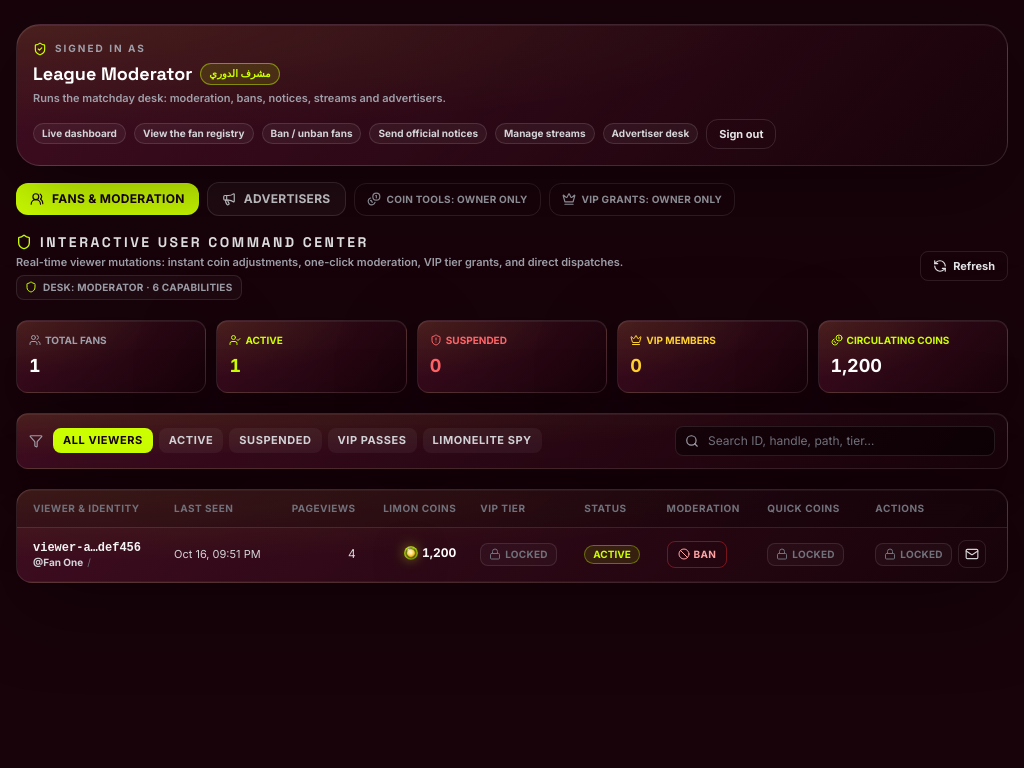
Test: signed in as a league moderator › renders the desk, its capabilities and only the tools it owns
expect the heading "League Moderator مشرف الدوري" is shown: met, box x1=33 y1=62 x2=280 y2=85
expect the text "Ban / unban fans" is shown: met, box x1=262 y1=123 x2=361 y2=144
Click the button "Advertisers".
click(276, 199)  # box x1=207 y1=182 x2=346 y2=216
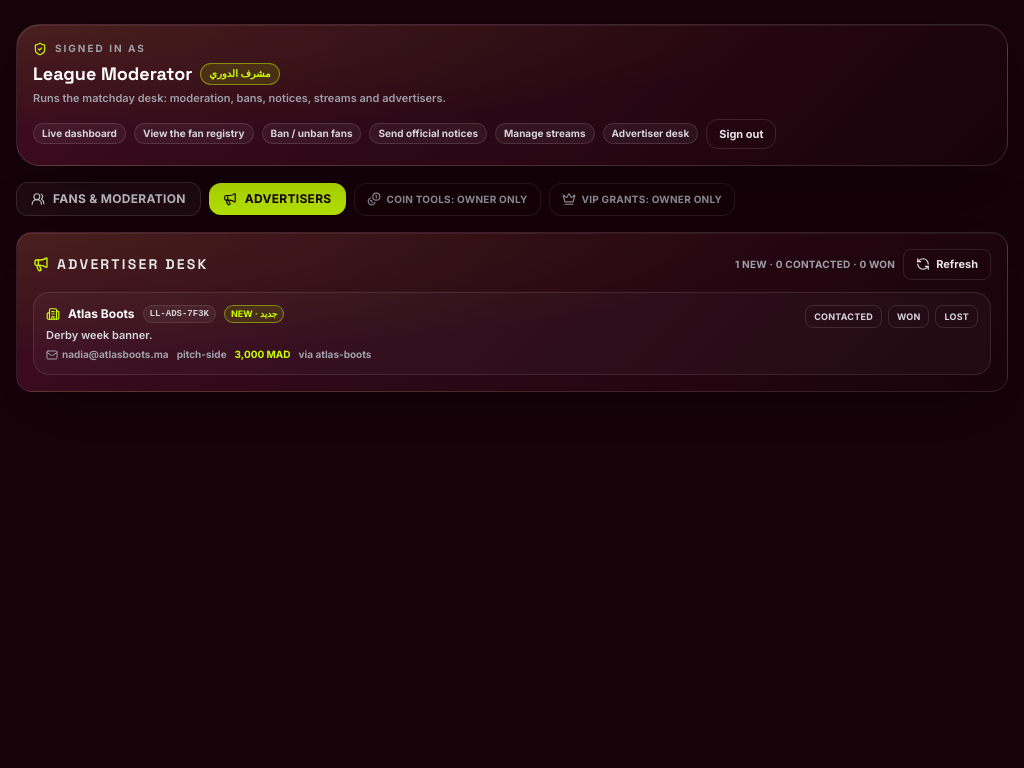
expect the list item is shown: met, box x1=33 y1=292 x2=991 y2=375
expect the list item shows "Atlas Boots": met, box x1=68 y1=306 x2=134 y2=320
expect the button "contacted" is shown: met, box x1=805 y1=304 x2=882 y2=328
